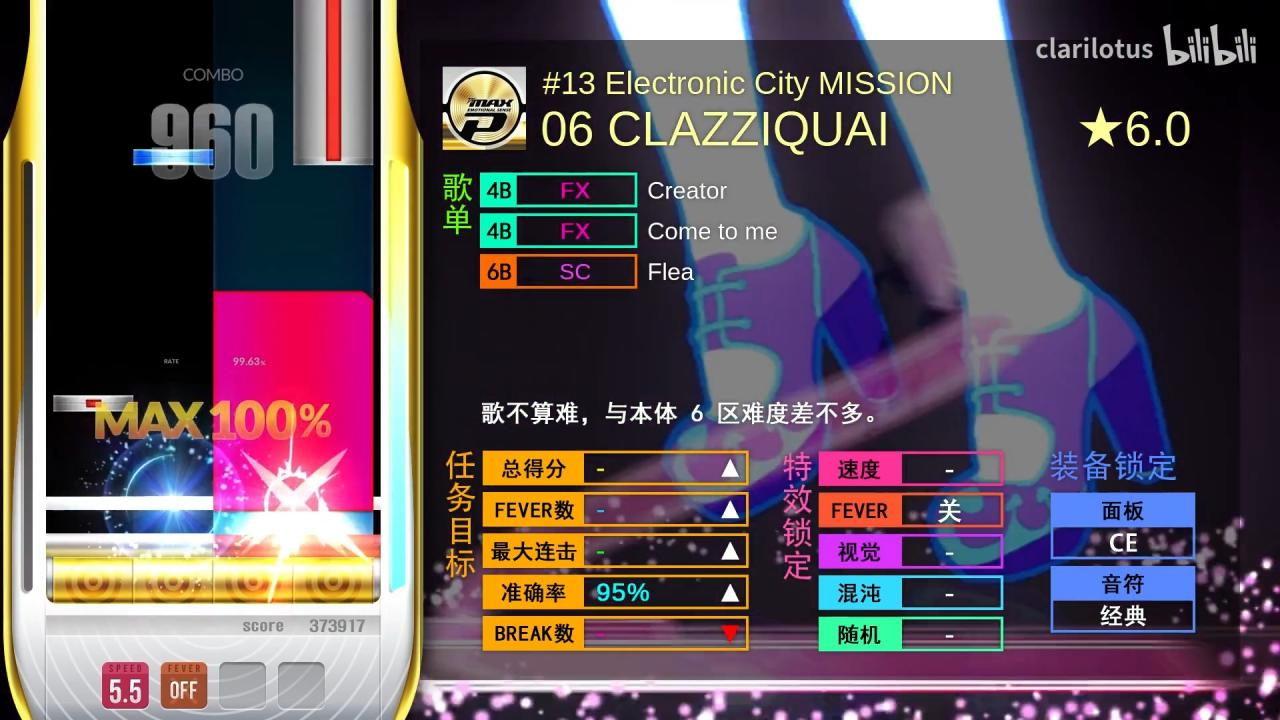hold-end: (294, 150, 373, 166)
note: (133, 149, 214, 166), (53, 395, 134, 411)
xend: (214, 290, 374, 310)
